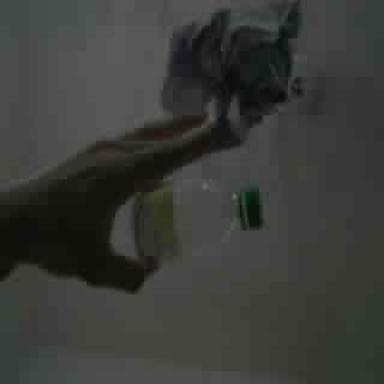bottle: (116, 179, 263, 262)
paper: (161, 2, 299, 131)
